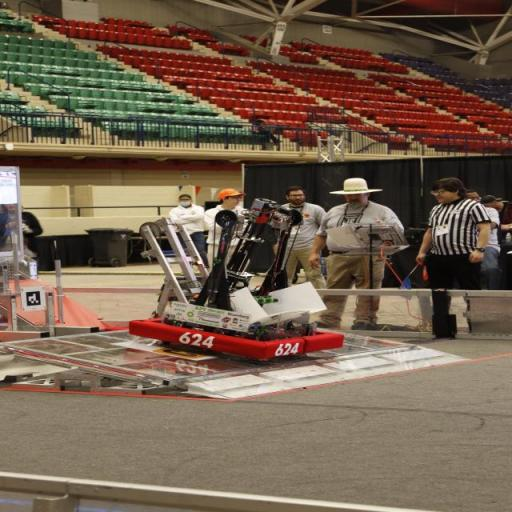robot: (118, 198, 351, 364)
